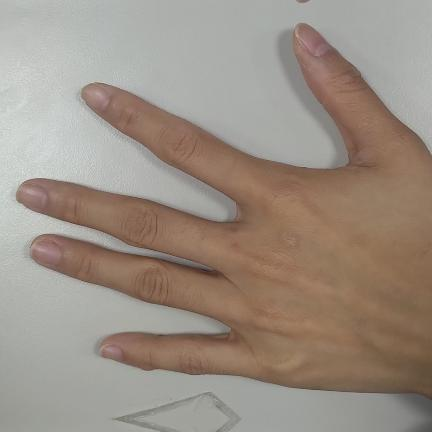Nail: (295, 22, 332, 55), (16, 183, 47, 211), (81, 82, 109, 111), (30, 240, 61, 265), (100, 344, 123, 361), (298, 0, 309, 2)
